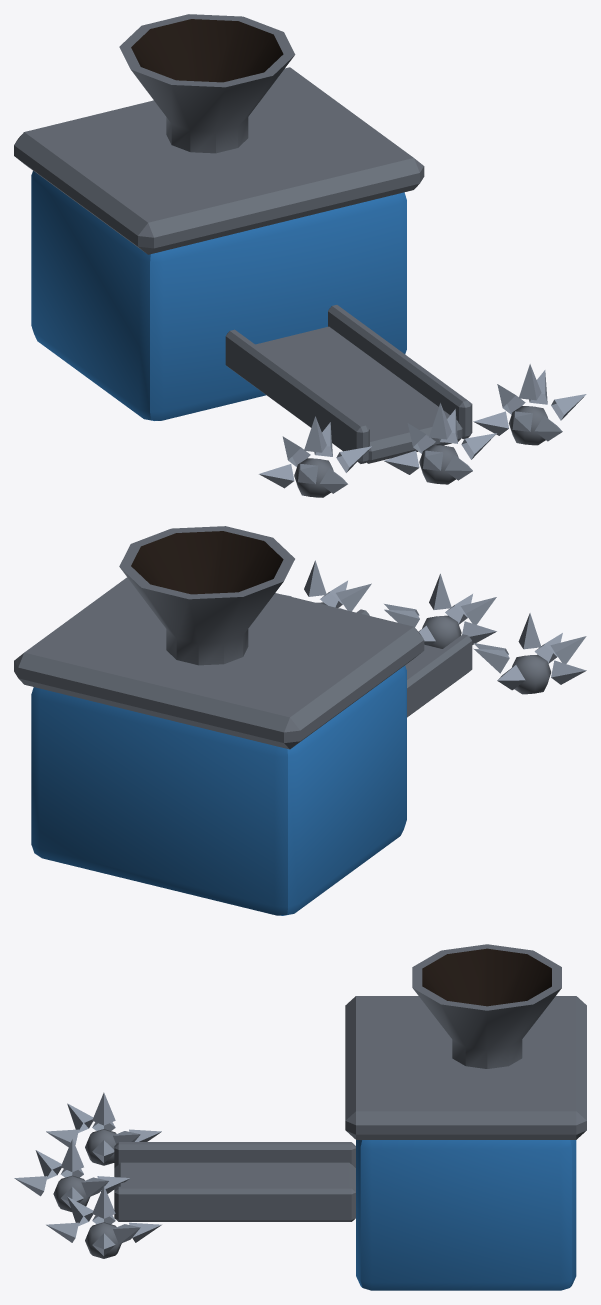
3 renders of one model, top to bottom at view 1: azimuth 30°, elevation 25°; view 2: azimuth 150°, elevation 25°; view 3: azimuth 270°, elevation 25°, orthographic. The views are drawn at different scales.
Visible parts, largest first — view 1: espinhos_0_base, espinhos_1_torreta; view 2: espinhos_0_base, espinhos_1_torreta; view 3: espinhos_0_base, espinhos_1_torreta.
Part boxes in pixels (<box>): espinhos_0_base: <box>14,14,586,497</box>; espinhos_1_torreta: <box>225,305,472,463</box>; espinhos_0_base: <box>14,526,586,915</box>; espinhos_1_torreta: <box>356,609,472,717</box>; espinhos_0_base: <box>14,944,586,1290</box>; espinhos_1_torreta: <box>114,1142,355,1221</box>.
Bounding box in the file's own units: 0.6427 × 0.55 × 1.09.
